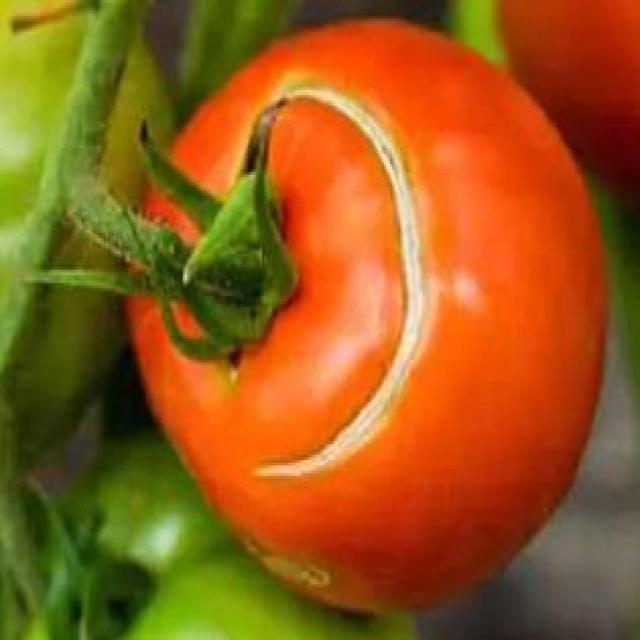Cracking Fruit: (166, 49, 287, 338)
